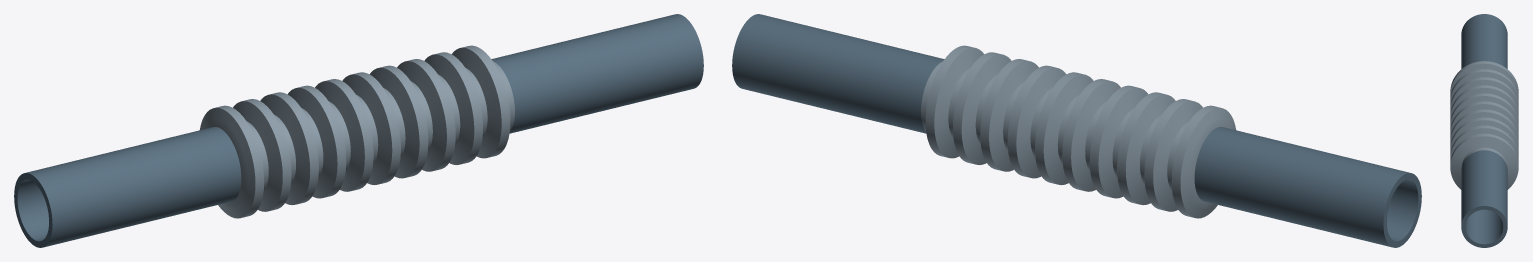
File: silf-dn25-L330-D33_7.glb
The picture shows the model from 3 angles, left to right: view 1: azimuth 30°, elevation 25°; view 2: azimuth 150°, elevation 25°; view 3: azimuth 270°, elevation 25°; orthographic projection. The views are drawn at different scales.
Visible parts, largest first — view 1: prokladka_silfon_1, patrubok_1, patrubok_2; view 2: prokladka_silfon_1, patrubok_1, patrubok_2; view 3: prokladka_silfon_1, patrubok_2, patrubok_1.
Boxes of the visible parts, x1,y1,x2,y2 form: prokladka_silfon_1: [200, 45, 514, 218]; patrubok_1: [14, 127, 241, 247]; patrubok_2: [491, 14, 703, 133]; prokladka_silfon_1: [921, 45, 1235, 218]; patrubok_1: [1194, 127, 1421, 247]; patrubok_2: [732, 14, 944, 133]; prokladka_silfon_1: [1450, 61, 1518, 189]; patrubok_2: [1461, 150, 1507, 247]; patrubok_1: [1461, 14, 1507, 68].
Size of the model in its own units: 330 by 49.74 by 49.74.
